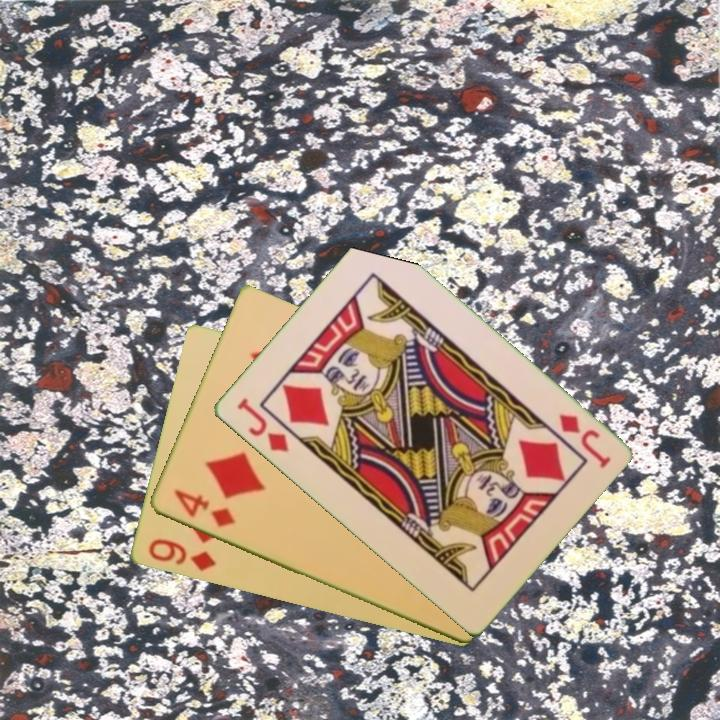4d: (169, 486, 238, 531)
9d: (144, 535, 218, 575)
Jd: (232, 394, 292, 456), (554, 410, 614, 471)
